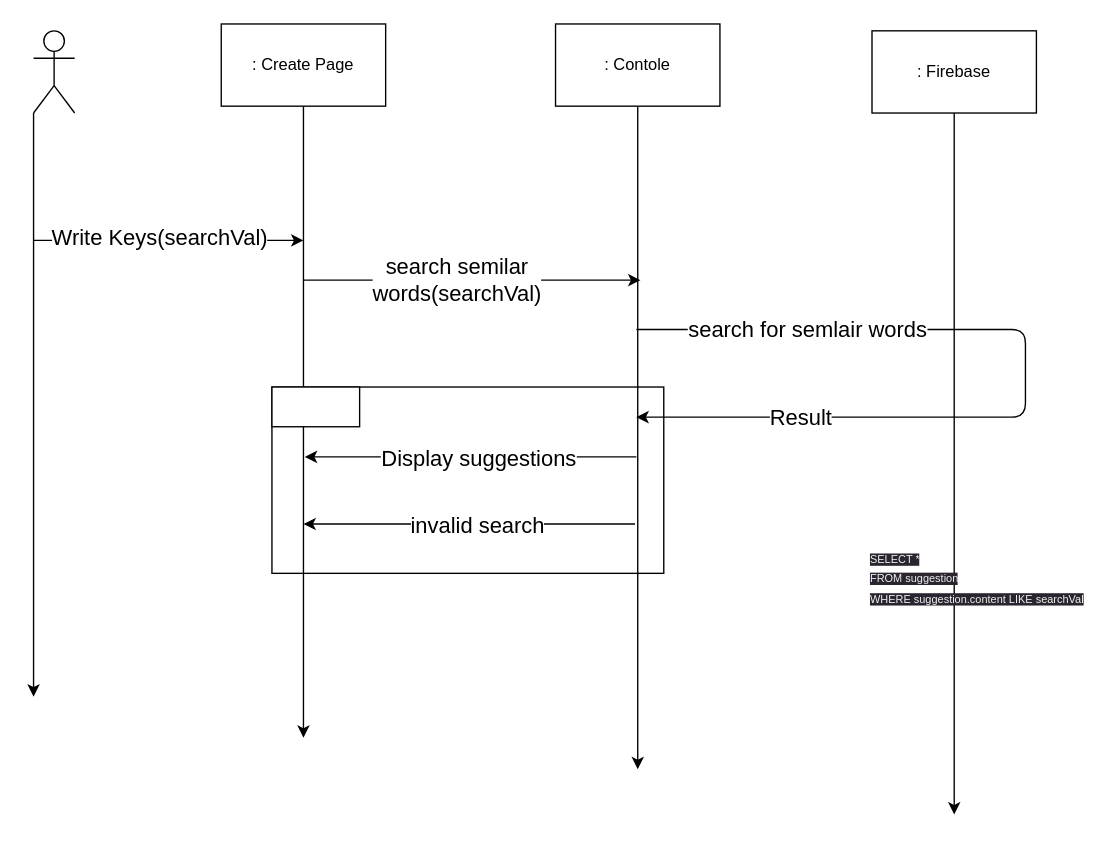
This 1111x849 diagram has some shape labels left out. The centre of each missing label's shape, as x and y in pixels:
"Actor" goes at point 53,71.
"ALT" goes at point 315,406.
